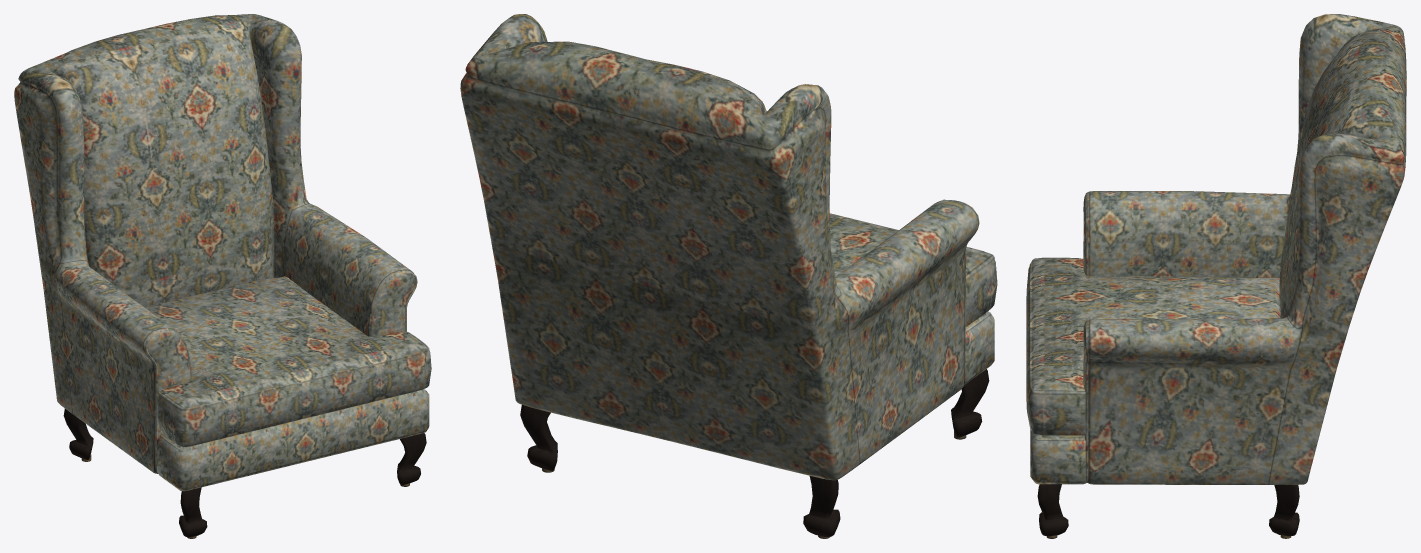
3 renders of one model, left to right at view 1: azimuth 30°, elevation 25°; view 2: azimuth 150°, elevation 25°; view 3: azimuth 270°, elevation 25°, orthographic. The views are drawn at different scales.
Parts seen in each view (by area): view 1: GBF000022_01_Cushion; view 2: GBF000022_01_Cushion; view 3: GBF000022_01_Cushion.
Boxes of the visible parts, x1,y1,x2,y2 form: GBF000022_01_Cushion: (14,14,431,538); GBF000022_01_Cushion: (460,14,997,538); GBF000022_01_Cushion: (1026,14,1406,538).
Size of the model in its own units: 1.21 by 1.57 by 1.32.
Materials: 1 (1 with a texture image).
